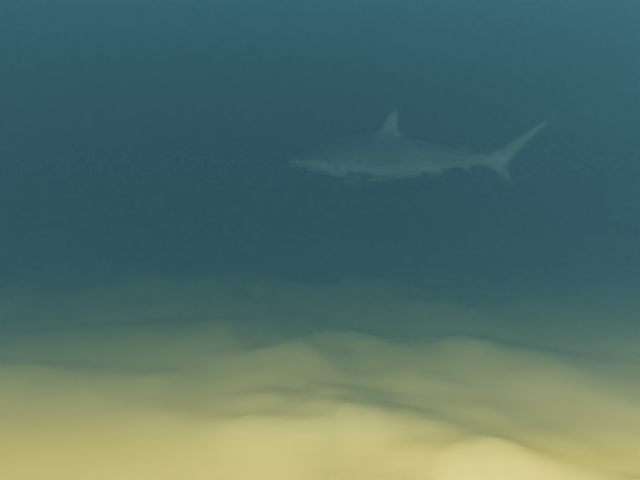Carribean Shark.001: (288, 105, 560, 190)
